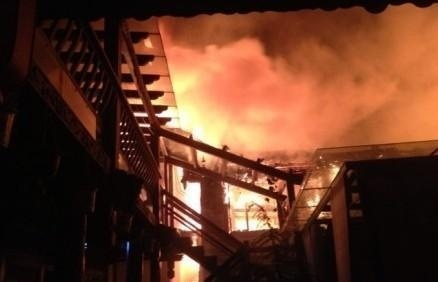fire: (224, 181, 276, 233), (173, 254, 200, 281)
